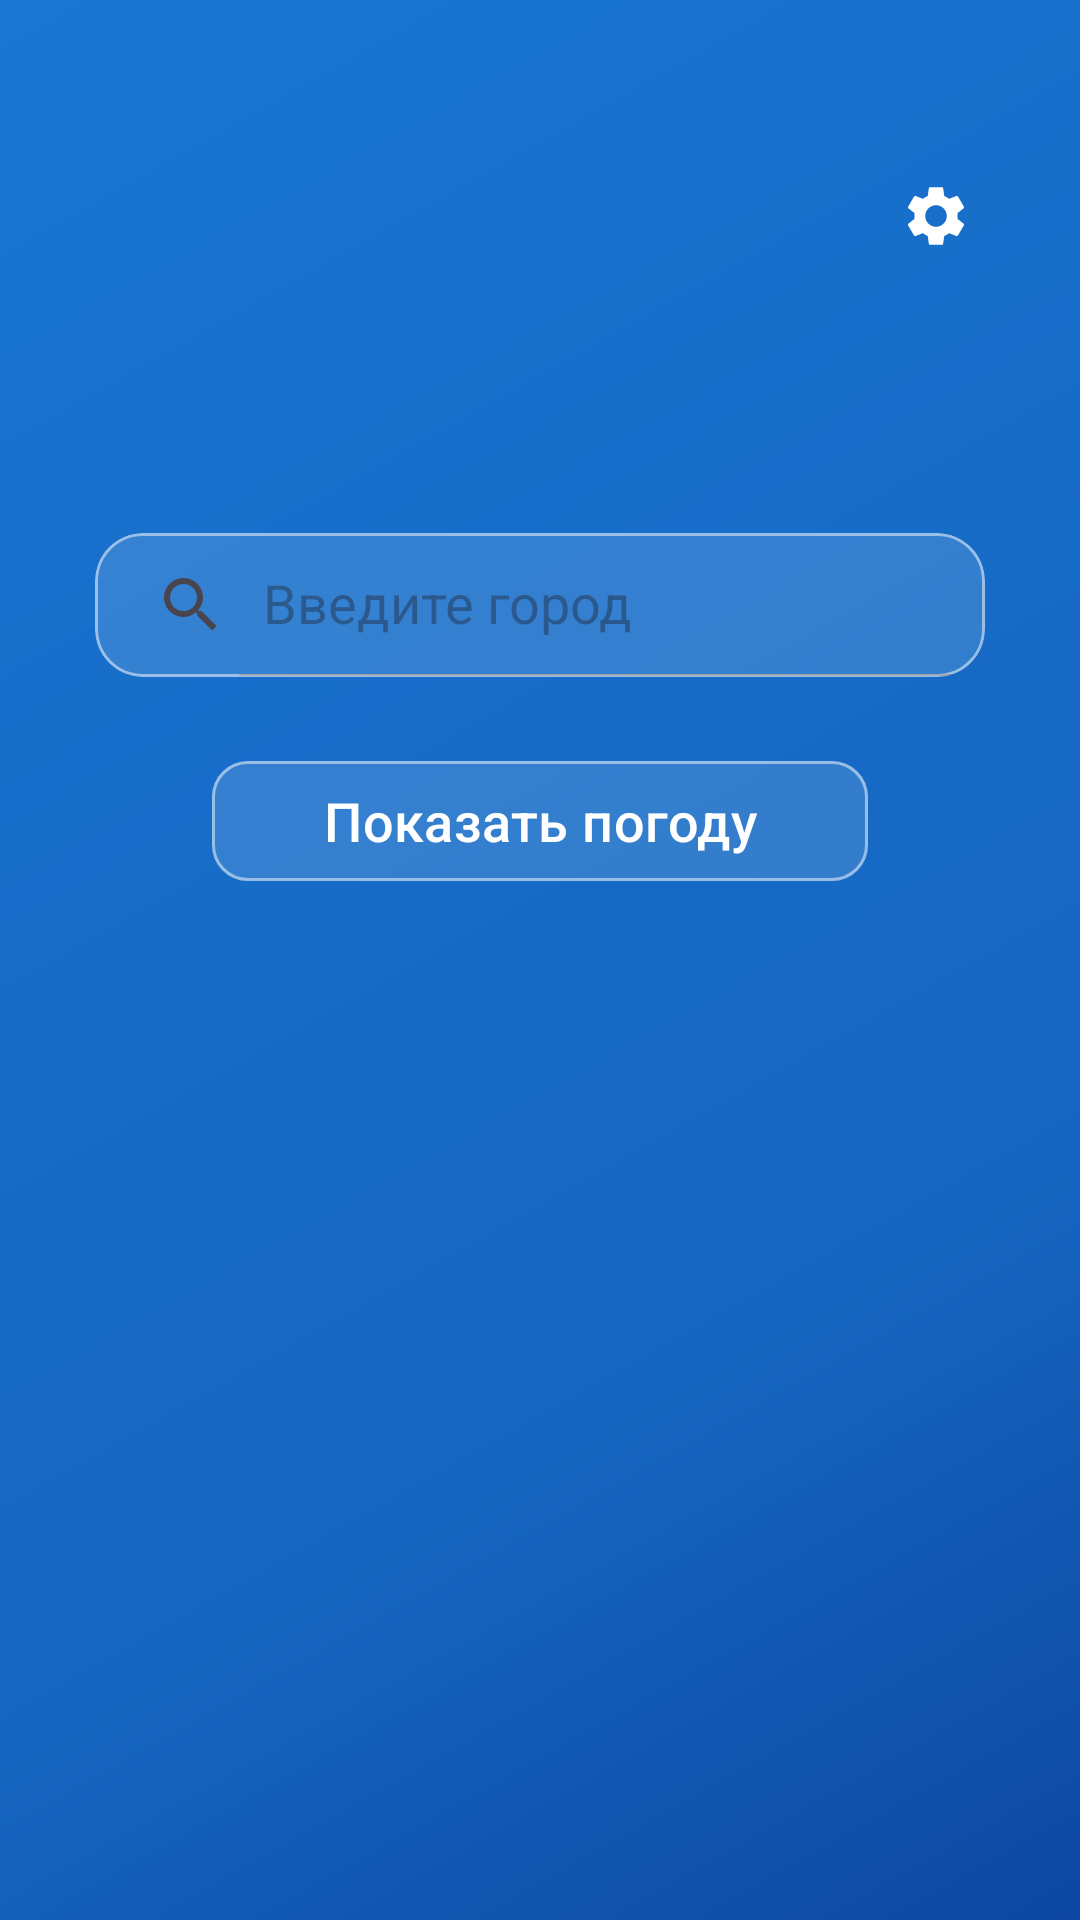

Locate icon controls on the screen. Image size 1080x1920, boxes as bbox(x1, y1, x2, y2).
settings: bbox(908, 187, 964, 245)
